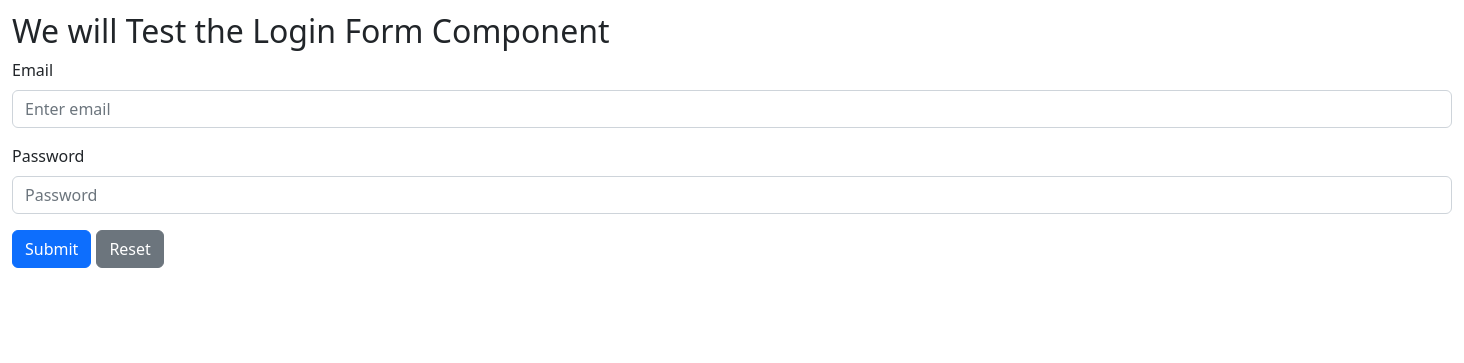
Test: Test the Login component › should display alert if error
Type "firada" into the field with placeholder "Enter email" at (732, 109), box [12, 90, 1452, 128]
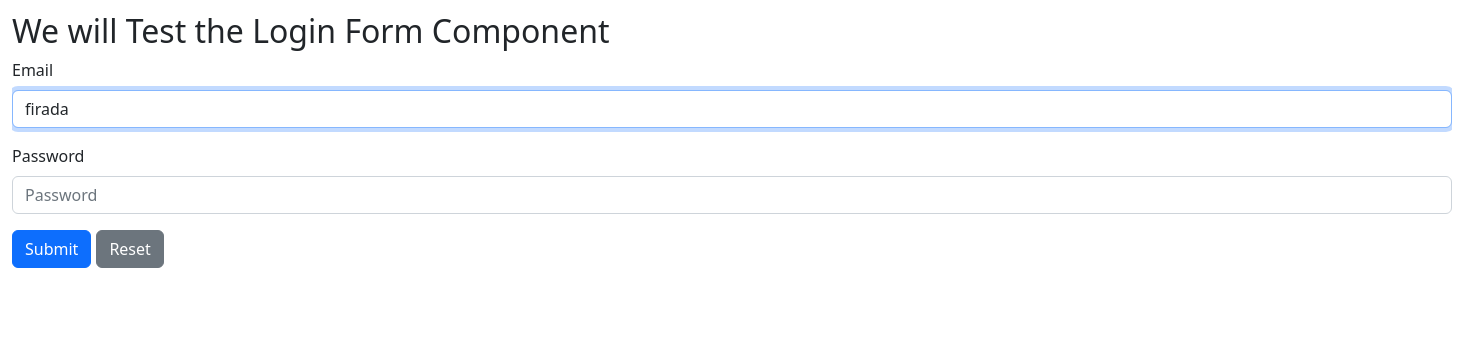
Type "123456" into the password field with placeholder "Password" at (732, 195), box [12, 176, 1452, 214]
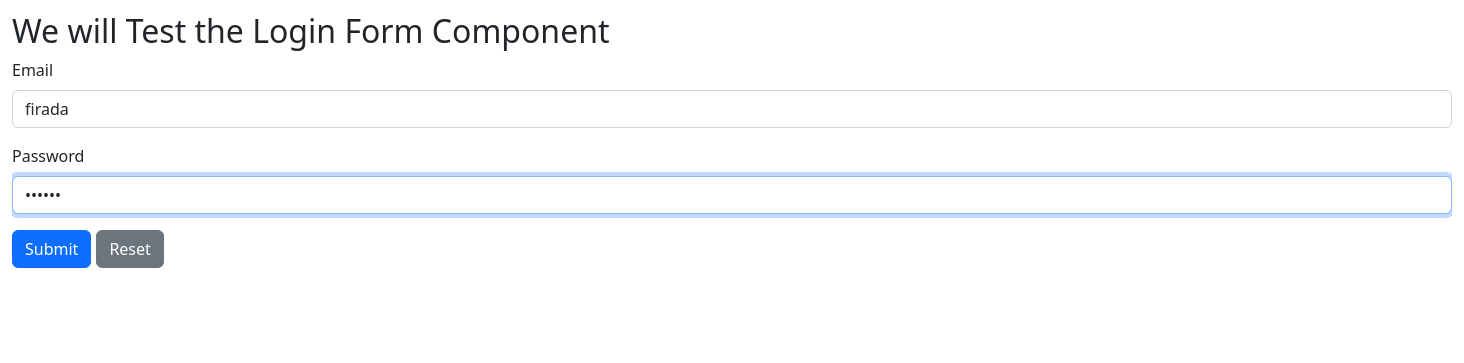
Click the button "Submit" at (52, 249), box [12, 230, 91, 268]
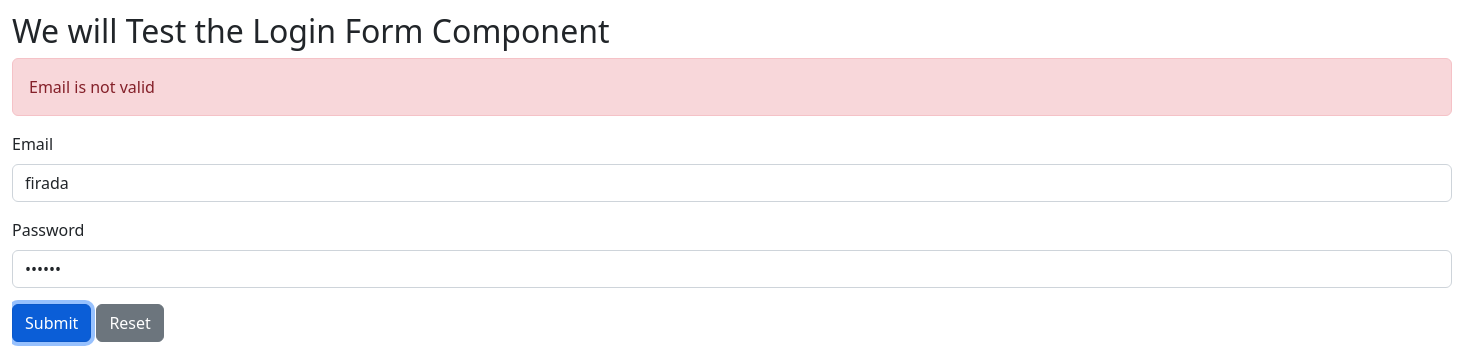
Expected: the text "Email is not valid" is shown, [12, 58, 1452, 116]
